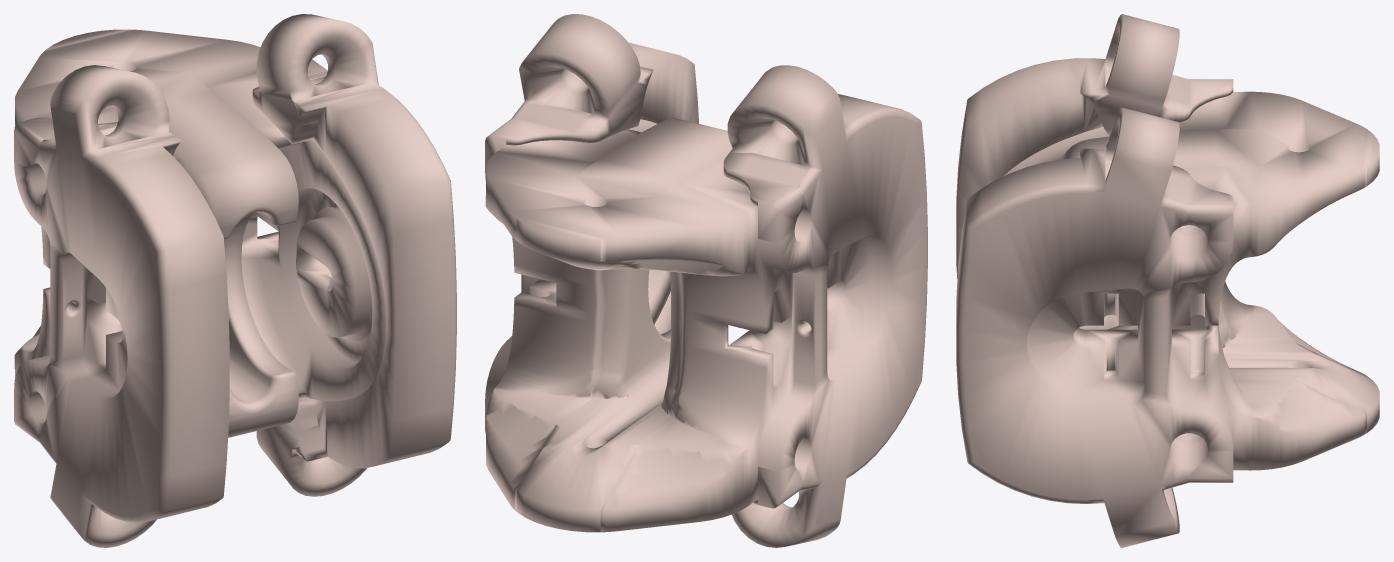
Rendered from wrist_lower_1.obj.
3 views of the same model, side by side, from view 1: azimuth 30°, elevation 25°; view 2: azimuth 150°, elevation 25°; view 3: azimuth 270°, elevation 25° (orthographic). The views are drawn at different scales.
Size of the model in its own units: 41.98 by 64.69 by 57.53.
